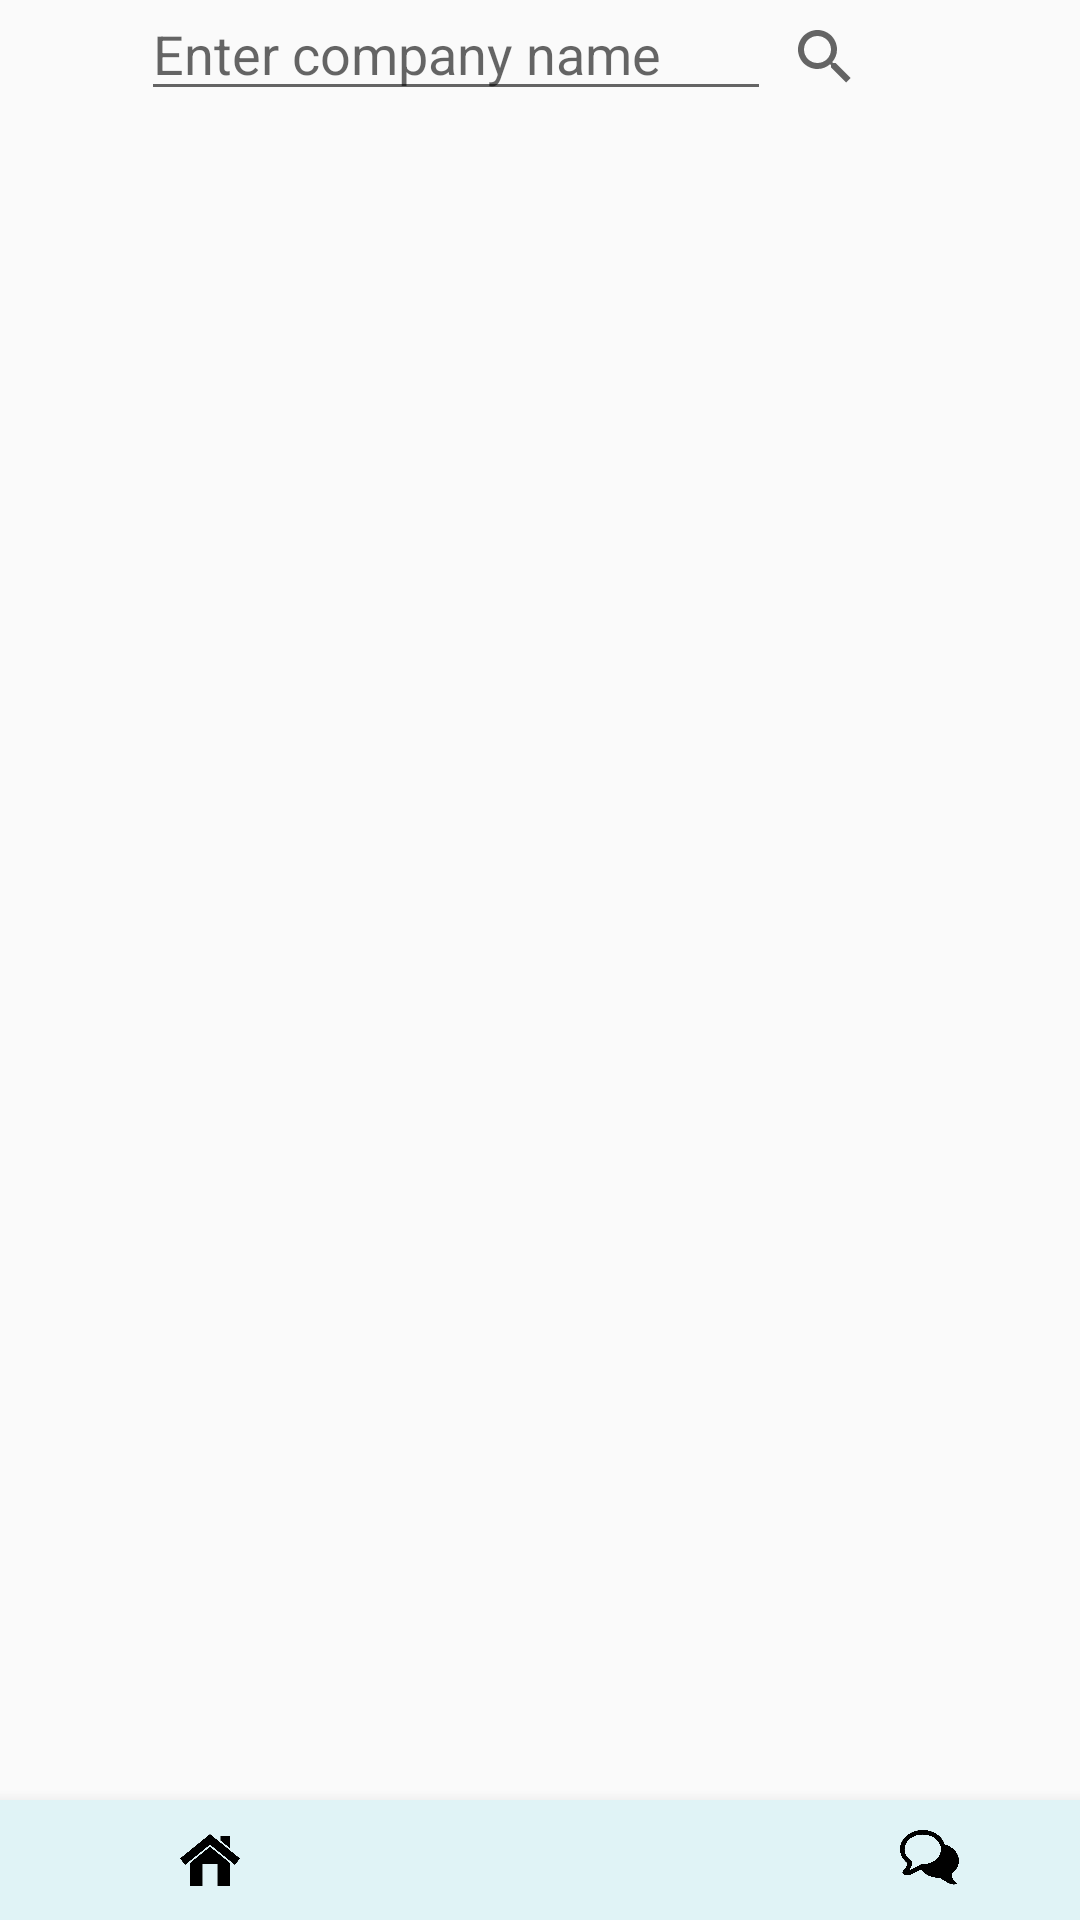

Icon click points for this 1080x1920 phone screenshot, format (x,y):
chat: (929,1857)
home: (210,1860)
